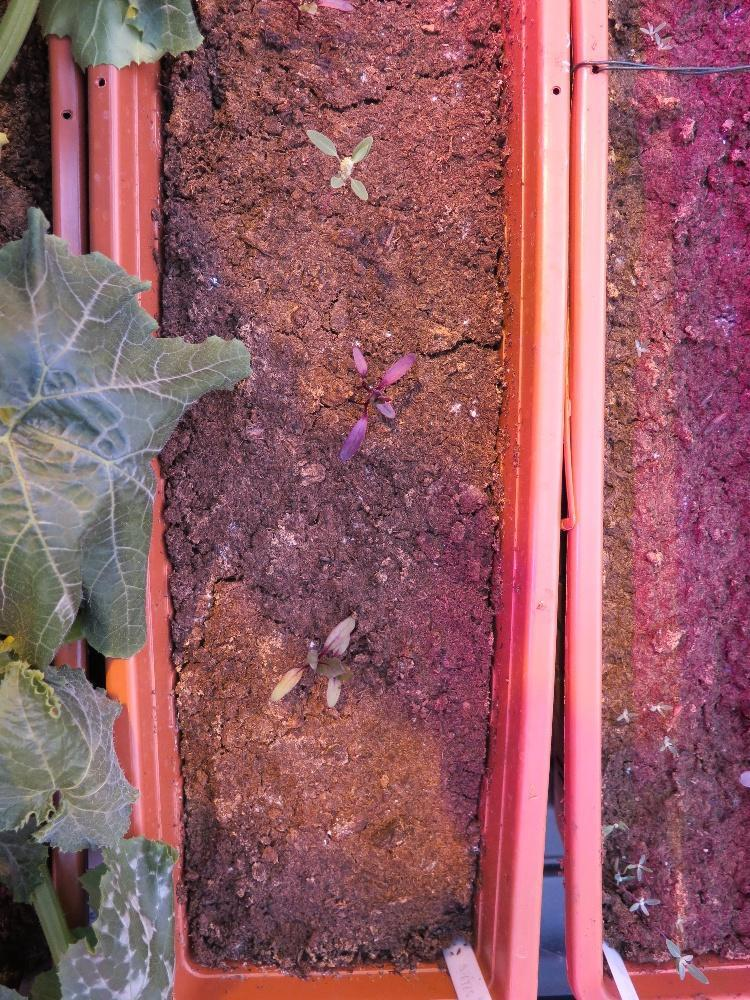weed: (304, 124, 374, 205), (663, 934, 708, 986), (627, 892, 659, 917), (657, 731, 679, 758), (614, 702, 639, 725), (648, 699, 673, 722)
